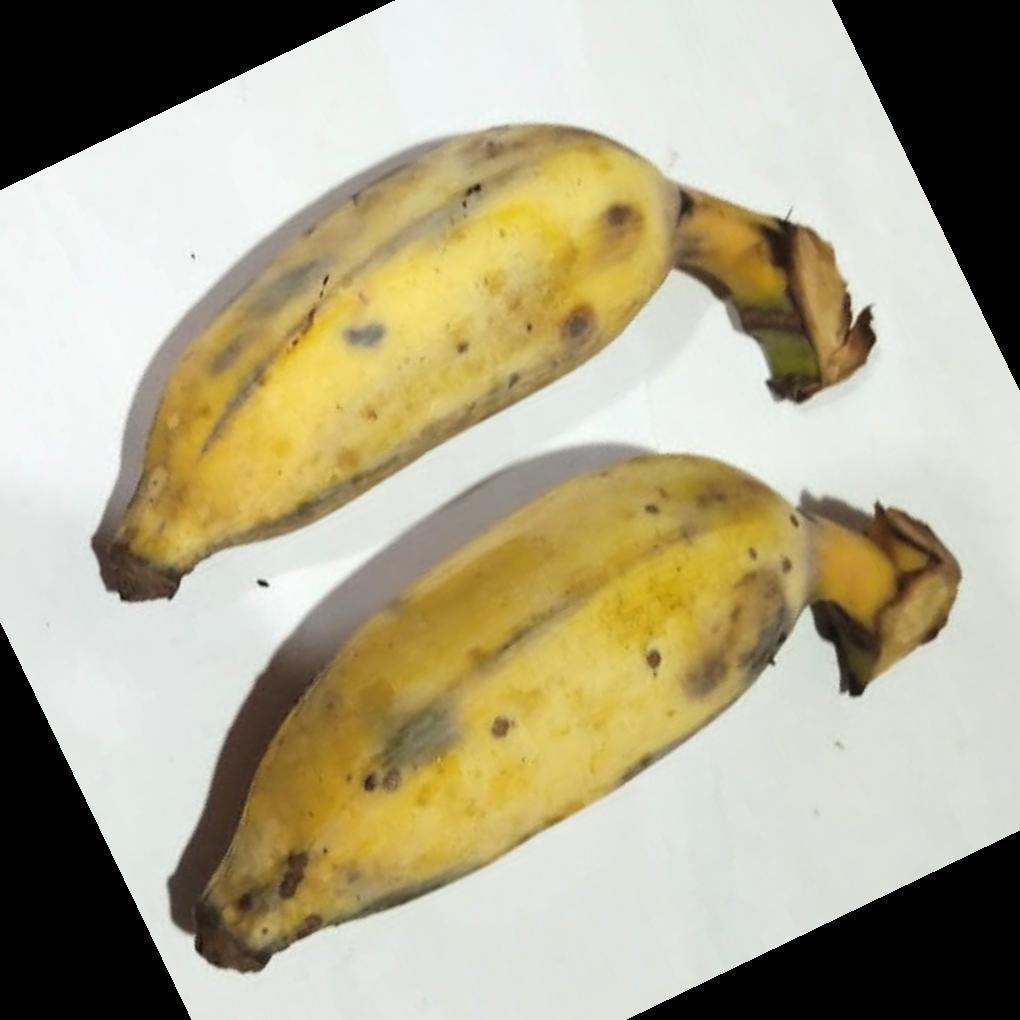Banana Ripe: (193, 436, 937, 954), (105, 111, 846, 576)
